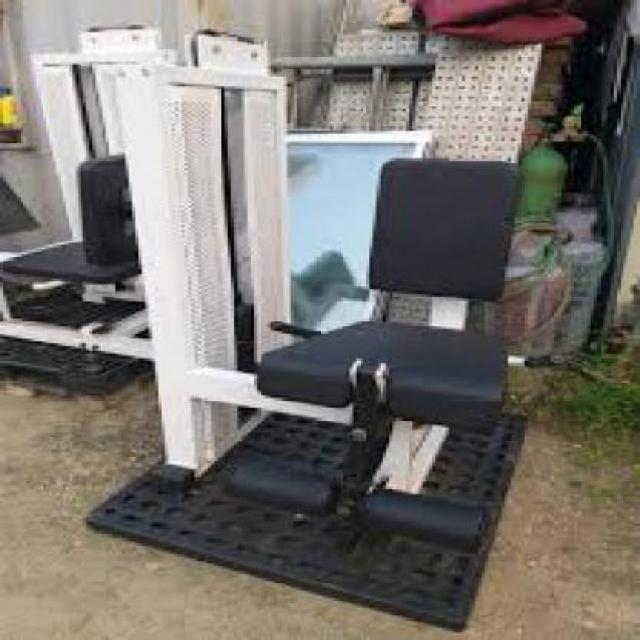leg extension: (89, 29, 591, 571)
